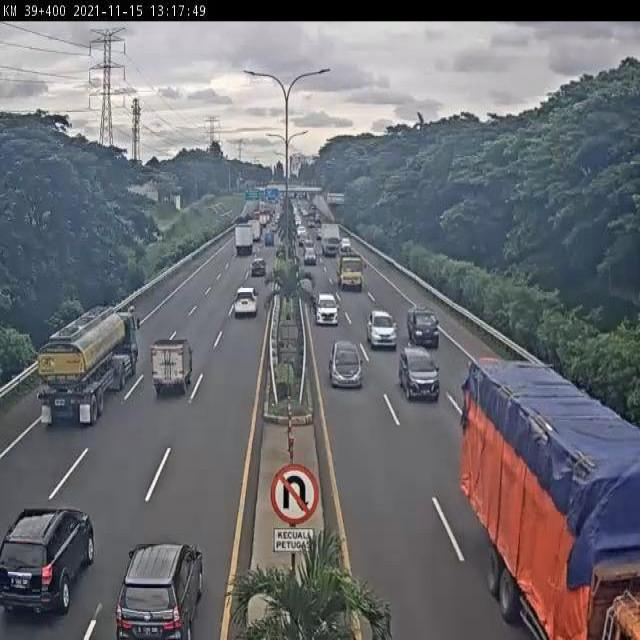car: (0, 507, 95, 620), (116, 542, 203, 640), (398, 345, 440, 400), (329, 339, 363, 388), (367, 308, 396, 349), (235, 285, 260, 319), (317, 292, 340, 325)
truck-l-: (461, 354, 640, 640)
truck-m-: (337, 252, 368, 293)
truck-s-: (150, 337, 194, 395), (407, 305, 440, 351)
truck-xl-: (35, 304, 142, 427)
